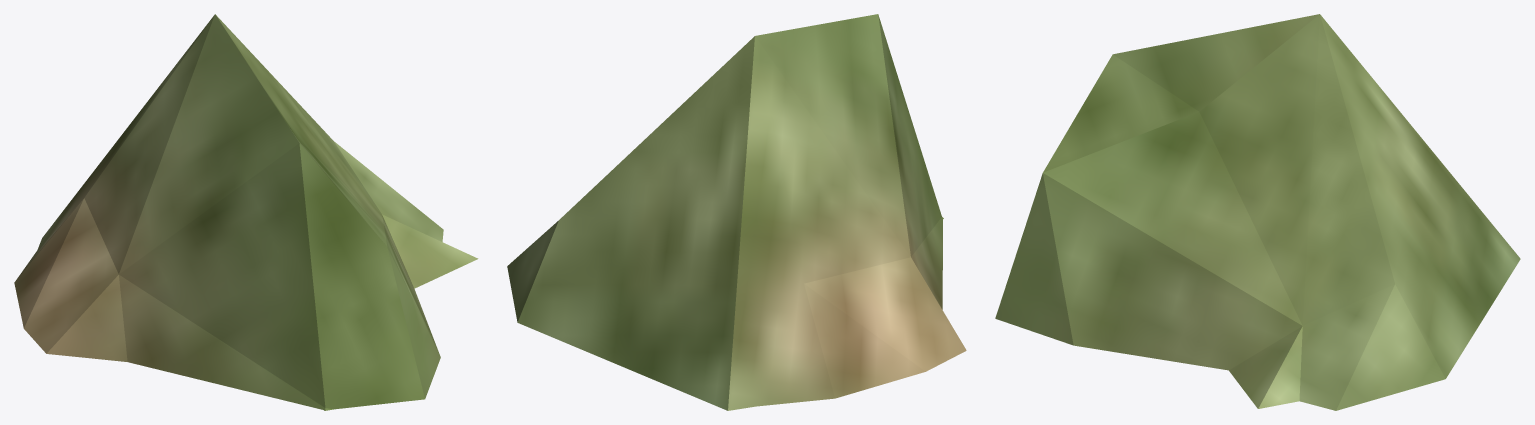
The picture shows the model from 3 angles, left to right: view 1: azimuth 30°, elevation 25°; view 2: azimuth 150°, elevation 25°; view 3: azimuth 270°, elevation 25°; orthographic projection.
Bounding box in the file's own units: 0.6583 × 0.4128 × 0.7001.
1 material, 1 textured.
